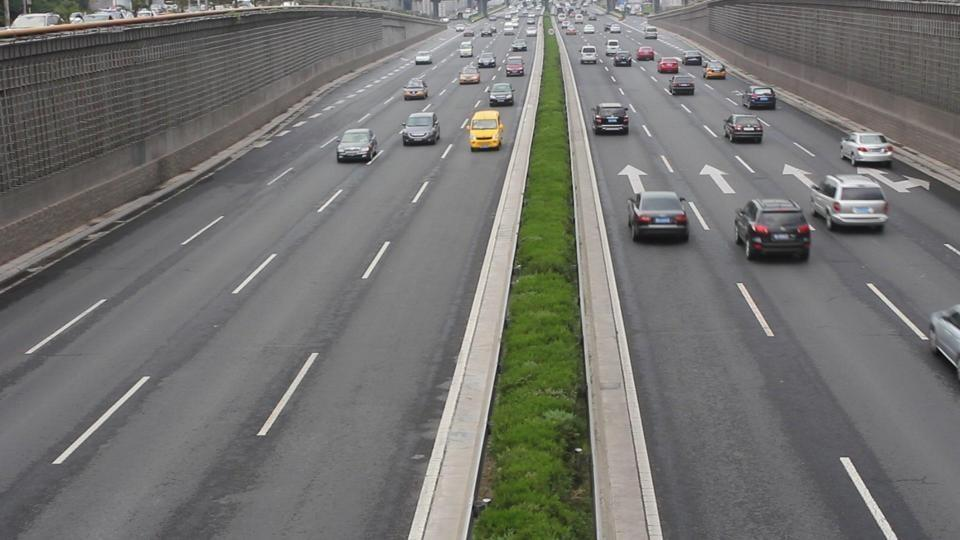car: (733, 196, 813, 262), (809, 173, 891, 233), (626, 191, 690, 243), (927, 302, 960, 373), (839, 130, 896, 166), (465, 110, 504, 152), (336, 128, 380, 164), (592, 101, 631, 136), (722, 113, 766, 143), (402, 112, 441, 145), (7, 12, 63, 30), (741, 84, 777, 110), (487, 81, 515, 106), (402, 77, 430, 100), (669, 74, 695, 96), (457, 63, 481, 86), (702, 60, 728, 79), (580, 44, 599, 65), (476, 50, 498, 68), (657, 57, 681, 73), (505, 57, 525, 76), (612, 51, 633, 67), (635, 46, 656, 61), (683, 51, 703, 65), (416, 51, 433, 65), (509, 39, 527, 52)
